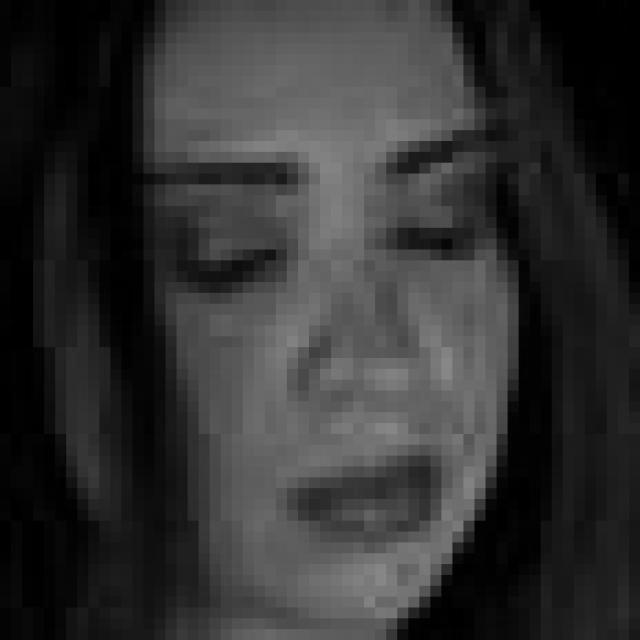real: (37, 0, 523, 629), (152, 196, 491, 298)
